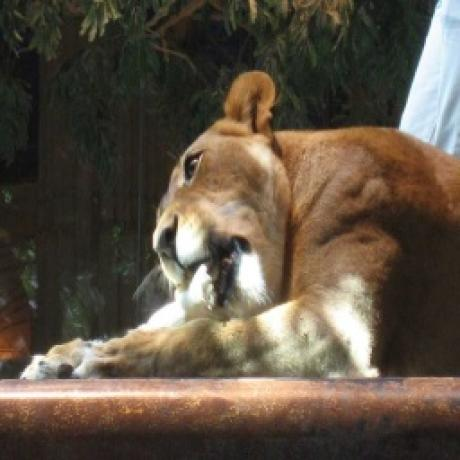Lion: (18, 67, 460, 379)
